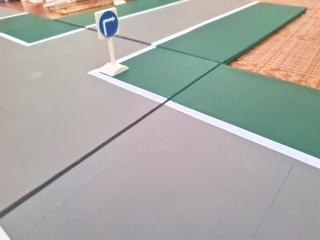right: (91, 5, 122, 43)
